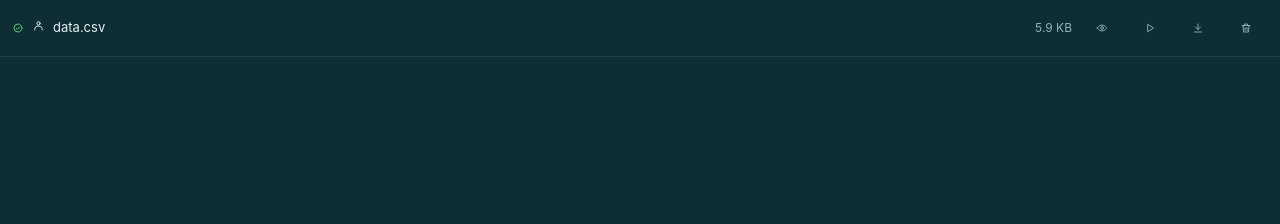
Test: BlobRow structural self-disclosure (T-3) › keeps the row/column counts out of the default DOM but KEEPS the structure caveat (elspeth-f1394307e3)
The image size is (1280, 224).
Click the button named "preview data.csv" at (1102, 28), box [1080, 6, 1124, 50]
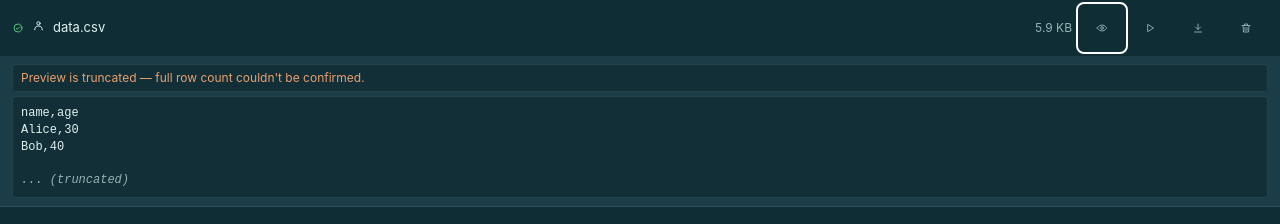
Expected: the element with test id "blob-row-structure" does not show "columns: name, age", [12, 64, 1268, 92]
Now the text "name,age Alice,30 Bob,40 ... (truncated)" is shown, box [12, 96, 1268, 198]
Now the element with test id "blob-row-structure" shows "truncated", box [21, 70, 365, 85]
